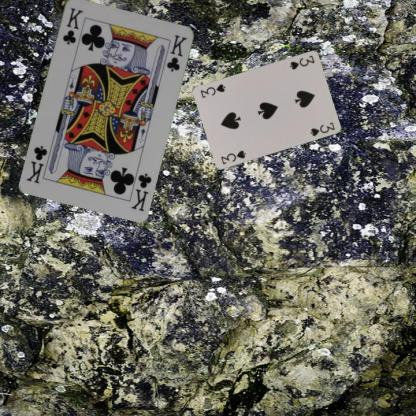3s: (218, 148, 248, 166), (287, 52, 316, 70)
Kc: (128, 170, 153, 212), (59, 5, 84, 46)
